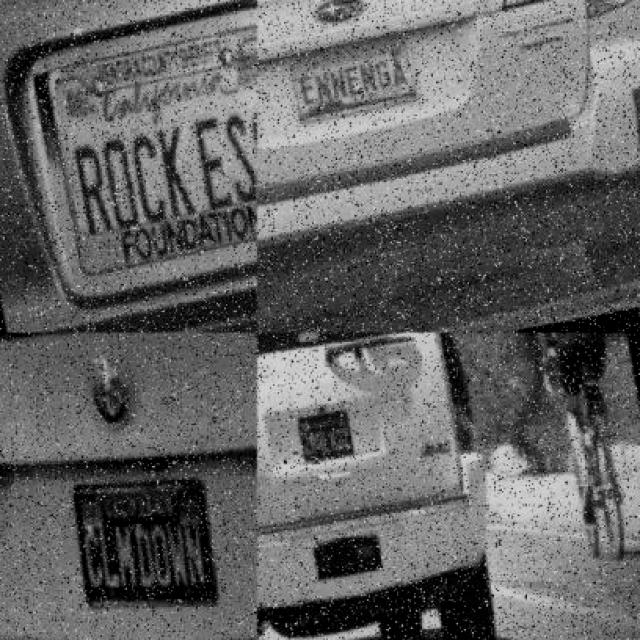licenseplate: (40, 17, 258, 276), (62, 453, 230, 626), (286, 34, 423, 121), (297, 404, 362, 462)
